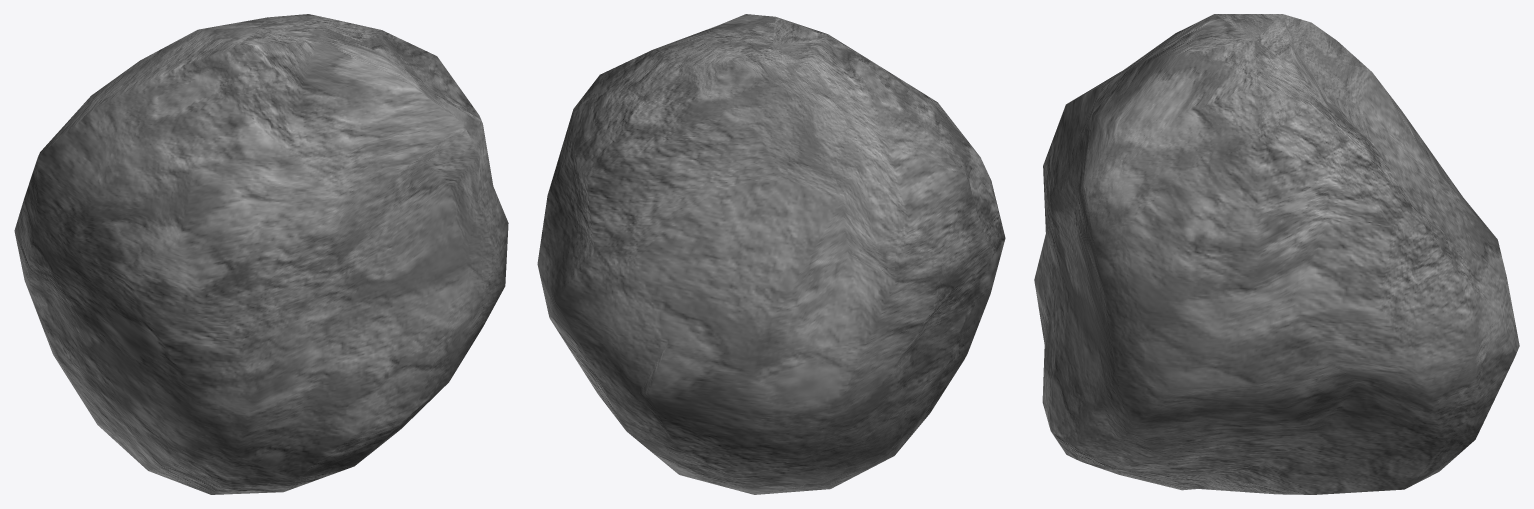
Rendered from asteroid_mindre.obj.
3 views of the same model, side by side, from view 1: azimuth 30°, elevation 25°; view 2: azimuth 150°, elevation 25°; view 3: azimuth 270°, elevation 25° (orthographic). The views are drawn at different scales.
Parts seen in each view (by area): view 1: GeoSphere001; view 2: GeoSphere001; view 3: GeoSphere001.
Part boxes in pixels (left/top/right/bottom): GeoSphere001: left=14, top=14, right=508, bottom=494; GeoSphere001: left=537, top=14, right=1005, bottom=494; GeoSphere001: left=1034, top=14, right=1519, bottom=494.
Size of the model in its own units: 4.42 by 4.54 by 4.14.
